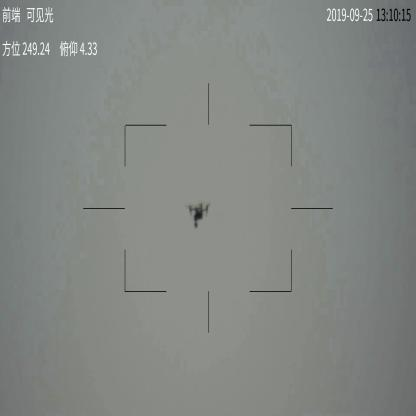uav: (187, 201, 211, 228)
